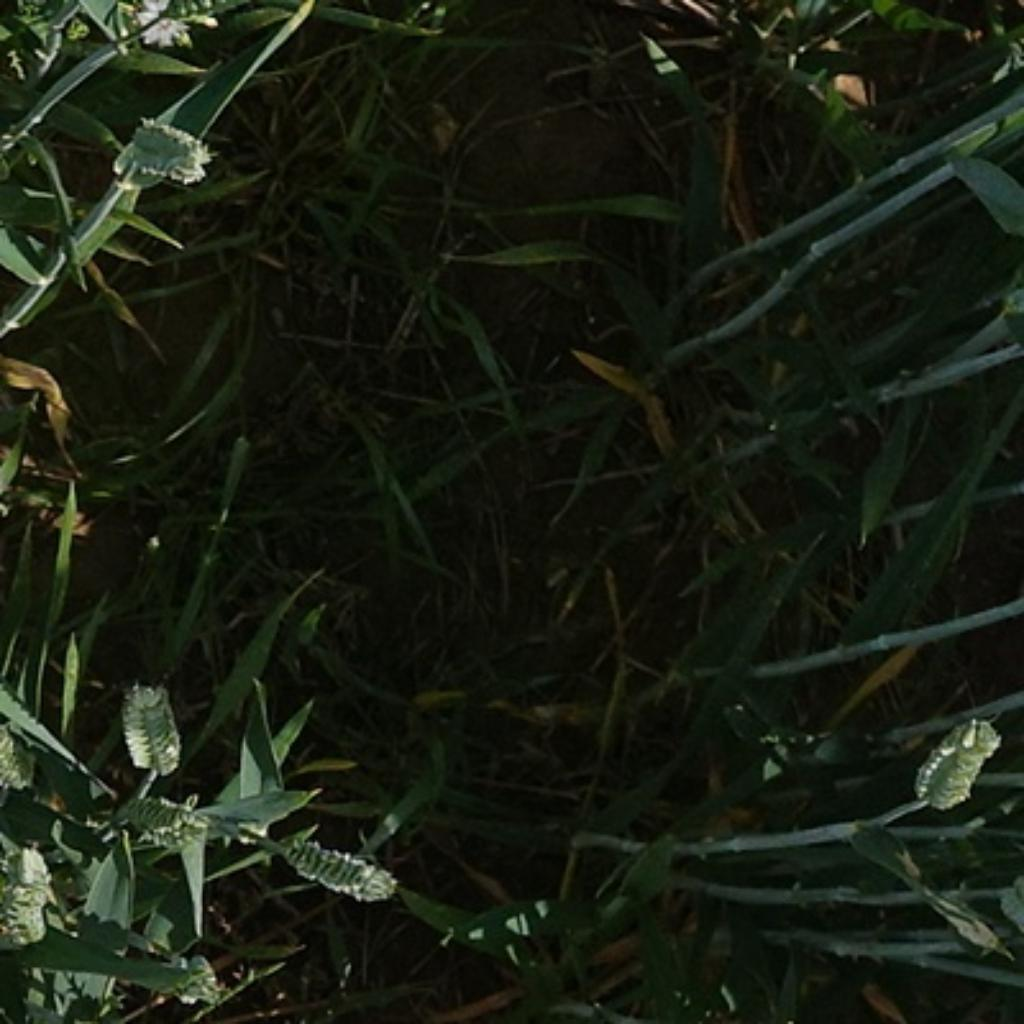0-0: (906, 705, 1009, 815), (266, 824, 404, 901), (107, 107, 215, 186), (107, 670, 189, 773), (0, 837, 64, 944), (151, 926, 227, 1016), (107, 785, 207, 849)
